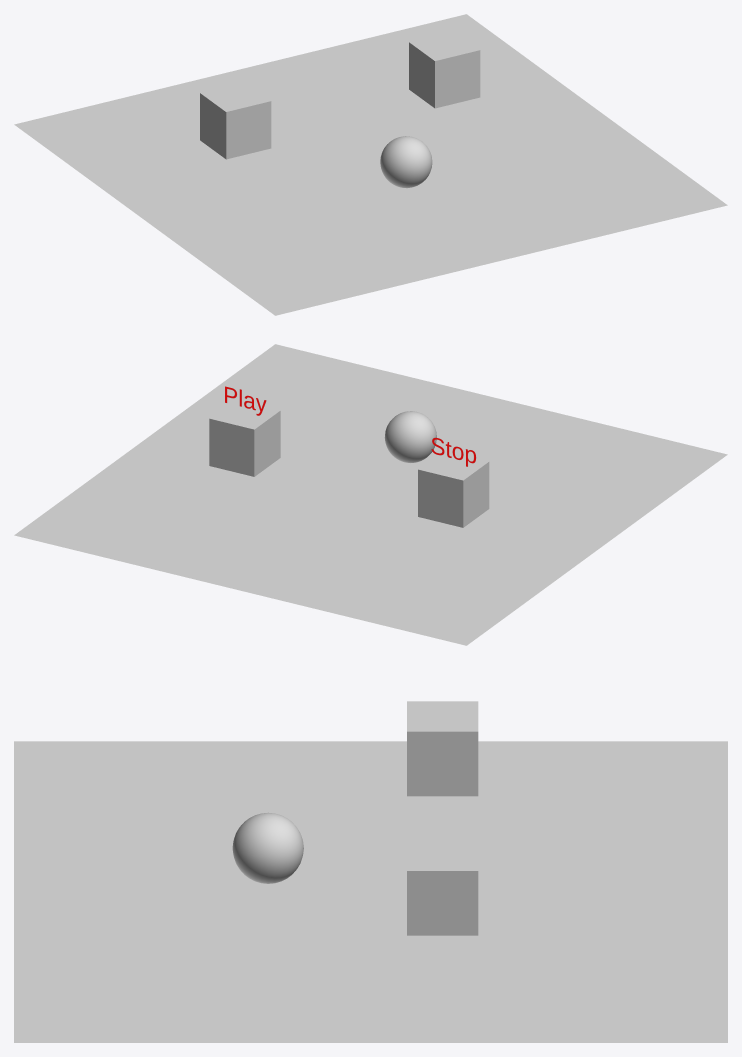
The model's file is 20250124-Animations.glb.
The picture shows the model from 3 angles, top to bottom: view 1: azimuth 30°, elevation 25°; view 2: azimuth 150°, elevation 25°; view 3: azimuth 270°, elevation 25°; orthographic projection. The views are drawn at different scales.
Visible parts, largest first — view 1: Plane, Play, Stop, Sphere; view 2: Plane, Play, Stop, Sphere; view 3: Plane, Play, Stop, Sphere.
Part boxes in pixels (<box>): Plane: <box>14,14,727,315</box>; Play: <box>409,31,480,108</box>; Stop: <box>200,82,271,159</box>; Sphere: <box>380,136,432,188</box>; Plane: <box>14,344,727,645</box>; Play: <box>209,399,280,476</box>; Stop: <box>418,450,489,527</box>; Sphere: <box>384,411,436,462</box>; Plane: <box>14,741,727,1042</box>; Play: <box>407,840,478,935</box>; Stop: <box>407,701,478,796</box>; Sphere: <box>232,812,303,883</box>.
Size of the model in its own units: 10 by 2.11 by 10.
2 materials, 1 textured.
